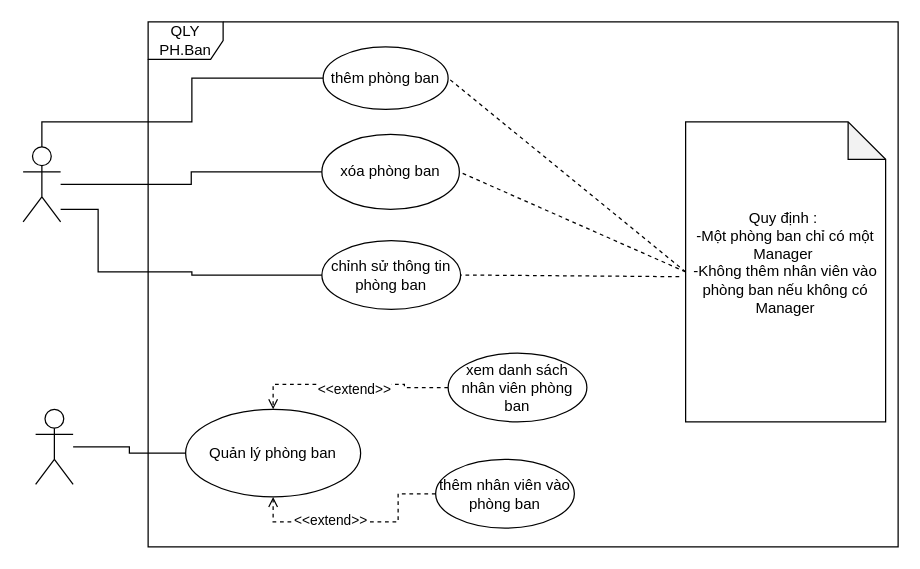
Some shapes in this 920 by 569 pixel diagram are drawn without their labels. The centre of each missing label's shape, as x and y in pixels:
admin: (41,184)
manager: (53,446)
